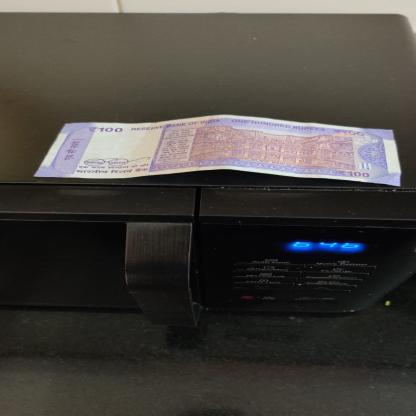New100Back: (31, 112, 406, 188)
